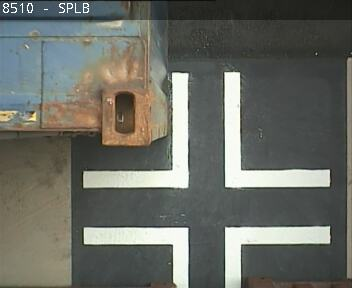groundmarker_1: (81, 72, 331, 188), (83, 226, 331, 288)
